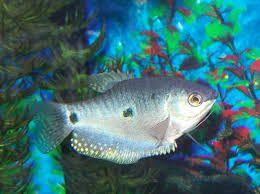Gourami: (31, 69, 220, 164)
